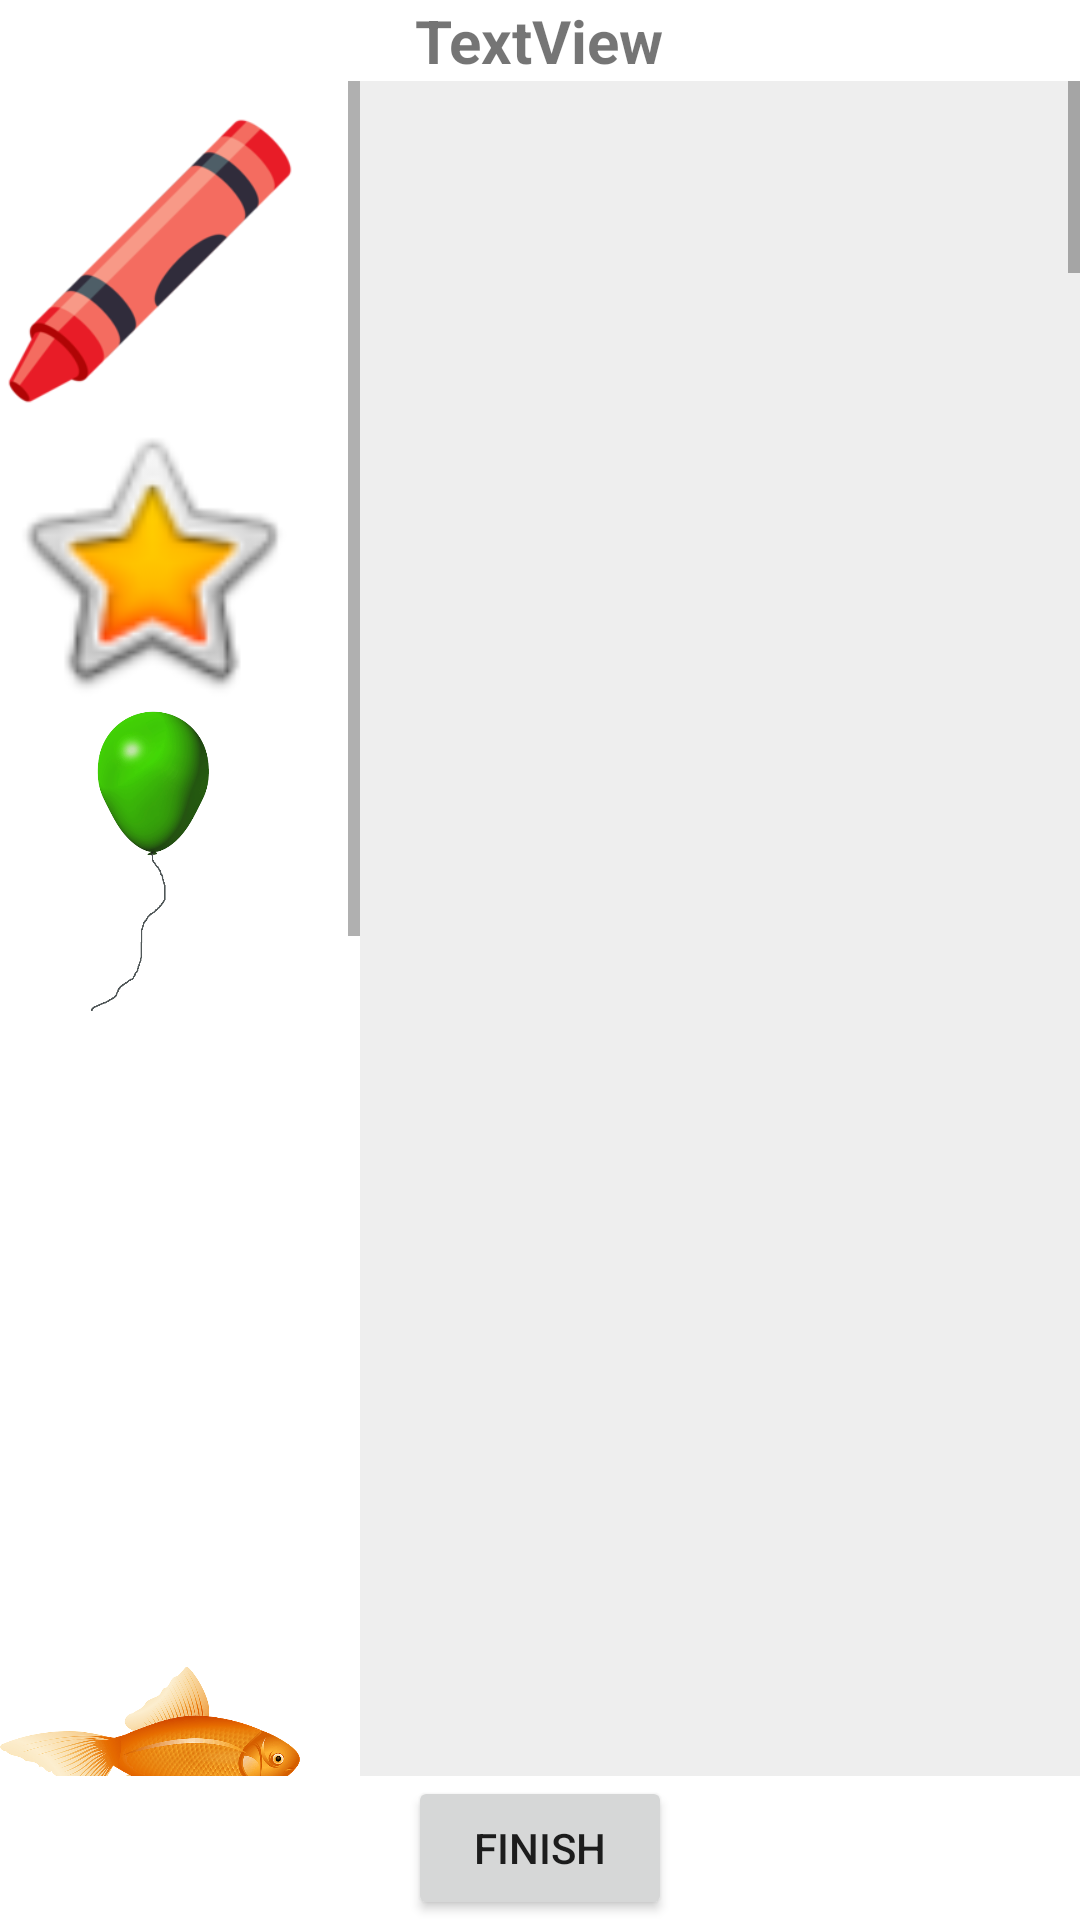

Where to tap for icons on this 1080×1920 app screen, as (x=x, y=y):
baloon: (x=150, y=861)
crayon: (x=150, y=261)
star on: (x=152, y=563)
